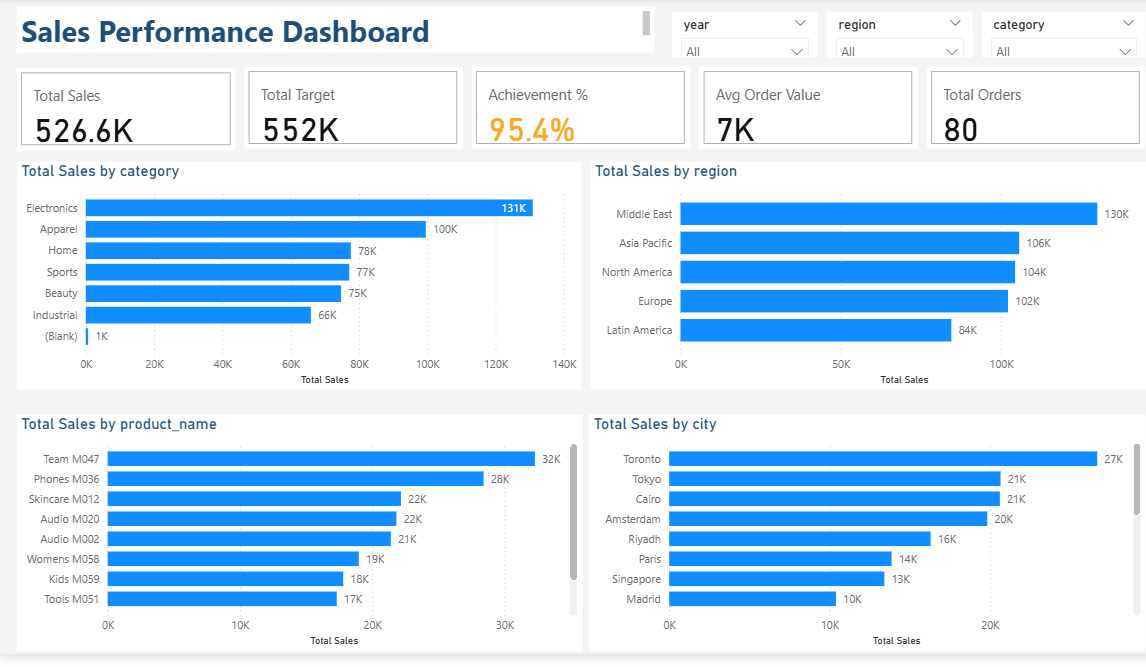

The dashboard page shown, as its layout file describes it:
{"tool":"powerbi","page":{"name":"Page 1","canvas":[1280,720],"ordinal":0},"visuals":[{"type":"textbox","box":[20,10,700,50],"z":0},{"type":"slicer","title":"Year","fields":{"Values":["dim_date.year"]},"box":[740,15,160,50],"z":1000},{"type":"slicer","fields":{"Values":["dim_geo.region"]},"box":[910,15,160,50],"z":2000},{"type":"slicer","fields":{"Values":["dim_products.category"]},"box":[1080,15,180,50],"z":3000},{"type":"cardVisual","fields":{"Data":["_measure.Total Sales"]},"box":[20,77.3,240,90],"z":4000},{"type":"cardVisual","fields":{"Data":["_measure.Total Target"]},"box":[270,75,239.8,90.1],"z":5000},{"type":"cardVisual","fields":{"Data":["_measure.Achievement %"]},"box":[520,75,239.8,90.1],"z":6000},{"type":"cardVisual","fields":{"Data":["_measure.Avg Order Value"]},"box":[770,75,239.8,90.1],"z":7000},{"type":"cardVisual","fields":{"Data":["_measure.Total Orders"]},"box":[1020,75,239.8,90.1],"z":8000},{"type":"clusteredBarChart","fields":{"Y":["_measure.Total Sales"],"Category":["dim_products.category"]},"box":[20,180,620,250],"z":9000},{"type":"clusteredBarChart","fields":{"Category":["dim_products.product_name"],"Y":["_measure.Total Sales"]},"box":[20.3,456.3,620.5,260],"z":10000},{"type":"clusteredBarChart","fields":{"Y":["_measure.Total Sales"],"Category":["dim_geo.region"]},"box":[650,180,610,250],"z":11000},{"type":"clusteredBarChart","fields":{"Category":["dim_customer.city"],"Y":["_measure.Total Sales"]},"box":[649.6,456.3,610.4,260],"z":12000}]}

Visuals, with their boxes on the page's 1280x720 design canvas (x1, y1, x2, y2). These are canvas units, not pixel positions in the 1146x667 screenshot, which may show the page scaled, cropped or inside an application window:
textbox: pyautogui.locateOnScreen(20, 10, 720, 60)
"Year" slicer: pyautogui.locateOnScreen(740, 15, 900, 65)
slicer - dim_geo.region: pyautogui.locateOnScreen(910, 15, 1070, 65)
slicer - dim_products.category: pyautogui.locateOnScreen(1080, 15, 1260, 65)
cardVisual - _measure.Total Sales: pyautogui.locateOnScreen(20, 77, 260, 167)
cardVisual - _measure.Total Target: pyautogui.locateOnScreen(270, 75, 510, 165)
cardVisual - _measure.Achievement %: pyautogui.locateOnScreen(520, 75, 760, 165)
cardVisual - _measure.Avg Order Value: pyautogui.locateOnScreen(770, 75, 1010, 165)
cardVisual - _measure.Total Orders: pyautogui.locateOnScreen(1020, 75, 1260, 165)
clusteredBarChart - _measure.Total Sales x dim_products.category: pyautogui.locateOnScreen(20, 180, 640, 430)
clusteredBarChart - dim_products.product_name x _measure.Total Sales: pyautogui.locateOnScreen(20, 456, 641, 716)
clusteredBarChart - _measure.Total Sales x dim_geo.region: pyautogui.locateOnScreen(650, 180, 1260, 430)
clusteredBarChart - dim_customer.city x _measure.Total Sales: pyautogui.locateOnScreen(650, 456, 1260, 716)
